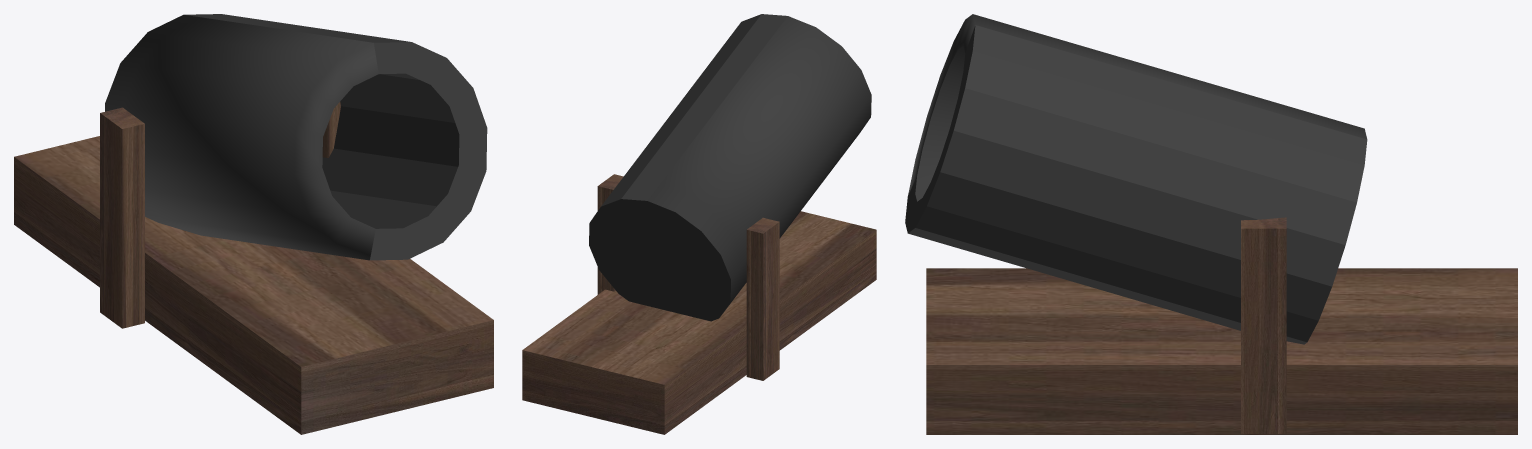
Rendered from bomb_b.fbx.
3 views of the same model, side by side, from view 1: azimuth 30°, elevation 25°; view 2: azimuth 150°, elevation 25°; view 3: azimuth 270°, elevation 25° (orthographic). The views are drawn at different scales.
Visible parts, largest first — view 1: bomb_b; view 2: bomb_b; view 3: bomb_b.
Part boxes in pixels (x1,y1,x2,y2): bomb_b: [14, 14, 493, 434]; bomb_b: [522, 14, 876, 434]; bomb_b: [905, 14, 1517, 434].
Bounding box in the file's own units: 371 × 553 × 845.
